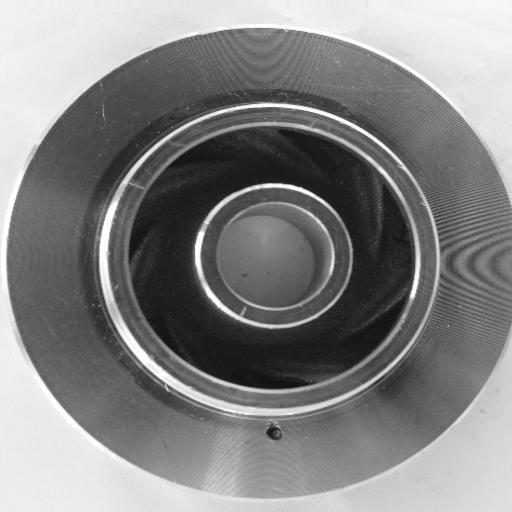pit: (255, 411, 295, 452)
unpolished_casting: (8, 27, 512, 499)
